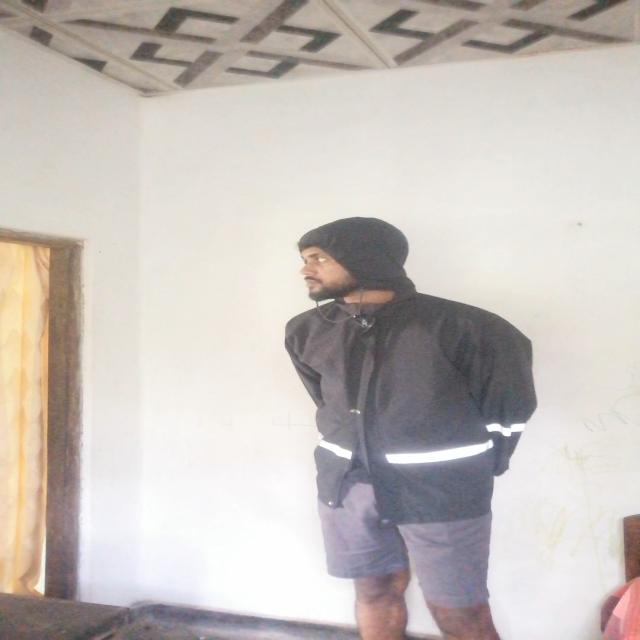Jacket_Wearer: (227, 220, 516, 524)
